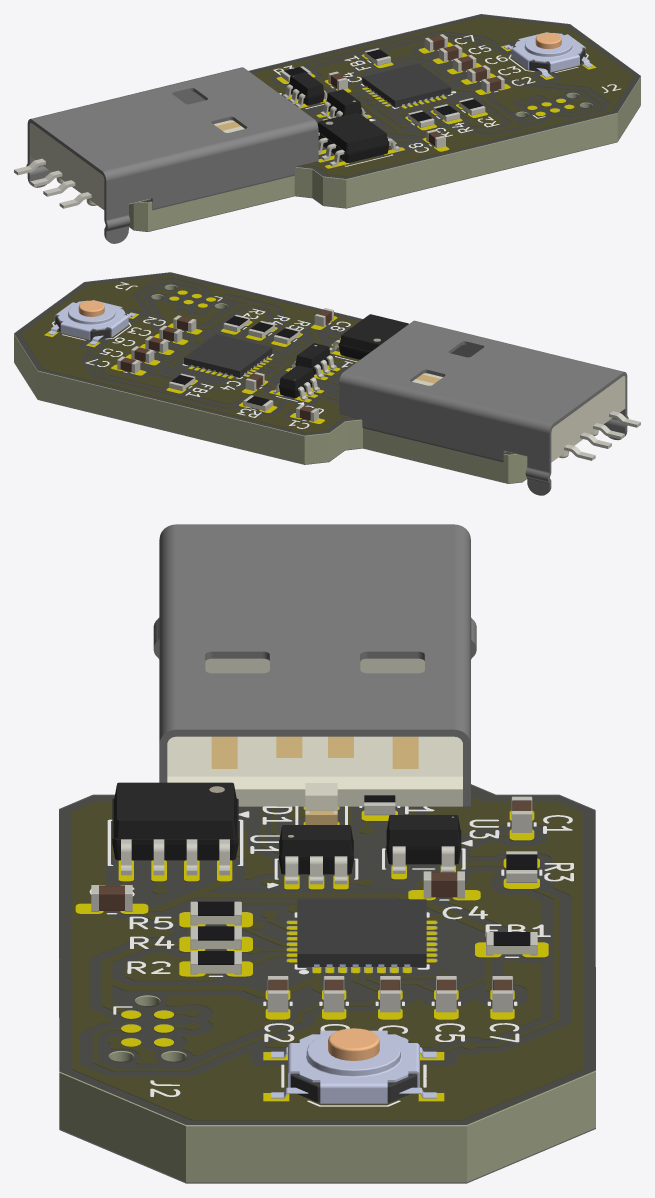
Rendered from 2FA Key.glb.
3 views of the same model, one above another, from view 1: azimuth 30°, elevation 25°; view 2: azimuth 150°, elevation 25°; view 3: azimuth 270°, elevation 25° (orthographic). The views are drawn at different scales.
Visible parts, largest first — view 1: =>[0:1:1:17], =>[0:1:1:23], =>[0:1:1:25], =>[0:1:1:20], =>[0:1:1:13], =>[0:1:1:9], =>[0:1:1:3], =>[0:1:1:21], =>[0:1:1:15], =>[0:1:1:19], =>[0:1:1:24]; view 2: =>[0:1:1:17], =>[0:1:1:23], =>[0:1:1:25], =>[0:1:1:20], =>[0:1:1:9], =>[0:1:1:3], =>[0:1:1:13], =>[0:1:1:21], =>[0:1:1:15], =>[0:1:1:19], =>[0:1:1:24], =>[0:1:1:7]; view 3: =>[0:1:1:23], =>[0:1:1:17], =>[0:1:1:25], =>[0:1:1:20], =>[0:1:1:13], =>[0:1:1:9], =>[0:1:1:3], =>[0:1:1:21], =>[0:1:1:7] (×5), =>[0:1:1:19], =>[0:1:1:15], =>[0:1:1:5] (×2) (+2 smaller).
Boxes of the visible parts, x1,y1,x2,y2 form: =>[0:1:1:17]: [14, 67, 318, 243]; =>[0:1:1:23]: [141, 14, 640, 202]; =>[0:1:1:25]: [129, 15, 640, 231]; =>[0:1:1:20]: [253, 18, 632, 175]; =>[0:1:1:13]: [318, 112, 400, 166]; =>[0:1:1:9]: [504, 32, 592, 77]; =>[0:1:1:3]: [362, 63, 451, 107]; =>[0:1:1:21]: [273, 35, 620, 166]; =>[0:1:1:15]: [283, 72, 327, 107]; =>[0:1:1:19]: [320, 89, 367, 119]; =>[0:1:1:24]: [129, 105, 640, 231]; =>[0:1:1:17]: [339, 320, 640, 495]; =>[0:1:1:23]: [14, 272, 514, 454]; =>[0:1:1:25]: [14, 273, 527, 483]; =>[0:1:1:20]: [22, 276, 358, 432]; =>[0:1:1:9]: [47, 300, 135, 344]; =>[0:1:1:3]: [184, 334, 272, 377]; =>[0:1:1:13]: [329, 314, 408, 359]; =>[0:1:1:21]: [52, 282, 357, 428]; =>[0:1:1:15]: [273, 365, 319, 400]; =>[0:1:1:19]: [289, 343, 336, 378]; =>[0:1:1:24]: [14, 363, 527, 483]; =>[0:1:1:7]: [243, 395, 273, 411]; =>[0:1:1:23]: [59, 784, 595, 1124]; =>[0:1:1:17]: [153, 524, 476, 807]; =>[0:1:1:25]: [59, 786, 595, 1182]; =>[0:1:1:20]: [72, 797, 582, 1119]; =>[0:1:1:13]: [112, 782, 238, 875]; =>[0:1:1:9]: [271, 1028, 436, 1103]; =>[0:1:1:3]: [297, 899, 426, 967]; =>[0:1:1:21]: [89, 806, 573, 1106]; =>[0:1:1:7] (×5): [190, 851, 537, 974]; =>[0:1:1:19]: [279, 825, 353, 884]; =>[0:1:1:15]: [386, 815, 461, 873]; =>[0:1:1:5] (×2): [91, 871, 464, 911].
Size of the model in its own units: 0.0504 by 0.0061 by 0.0208.
